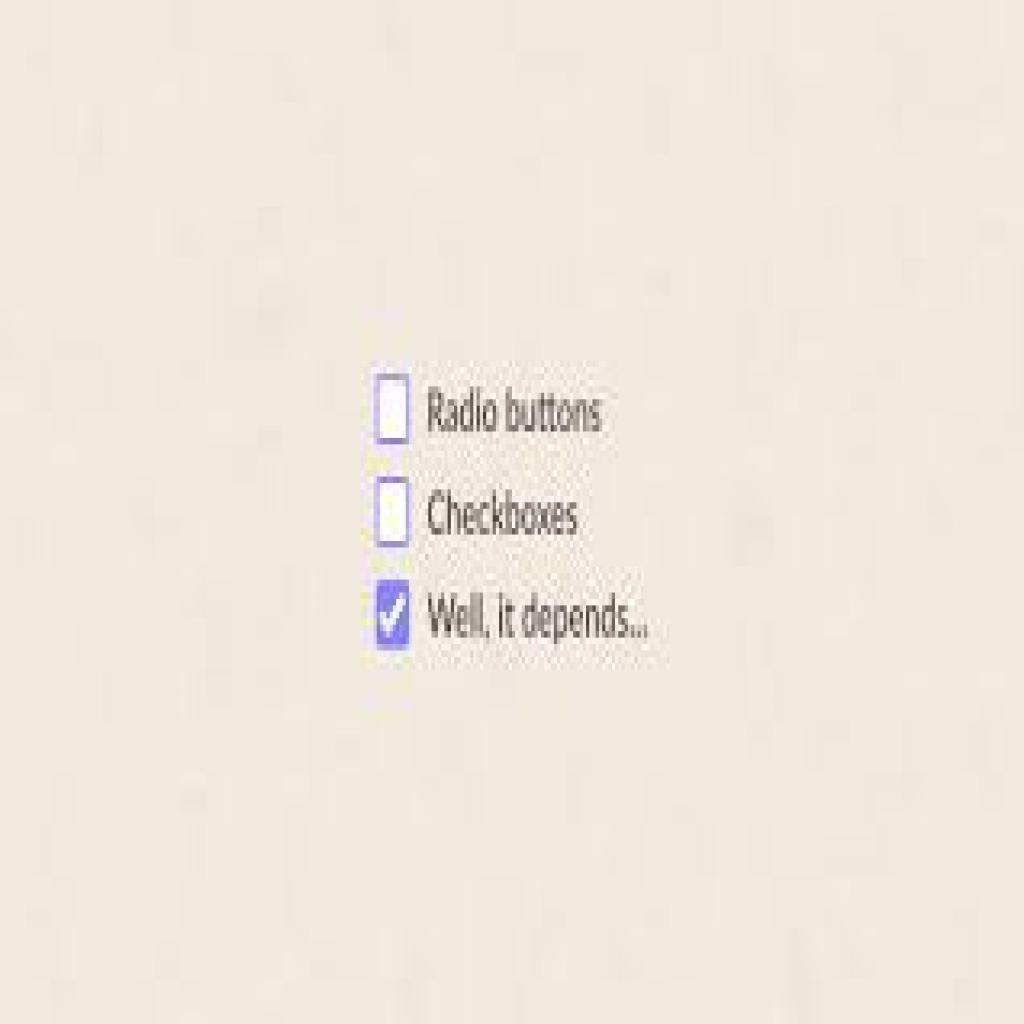checkbox: (373, 375, 411, 443), (375, 582, 411, 650), (376, 480, 411, 548)
label: (424, 582, 656, 652), (422, 377, 614, 443), (422, 484, 587, 545)
